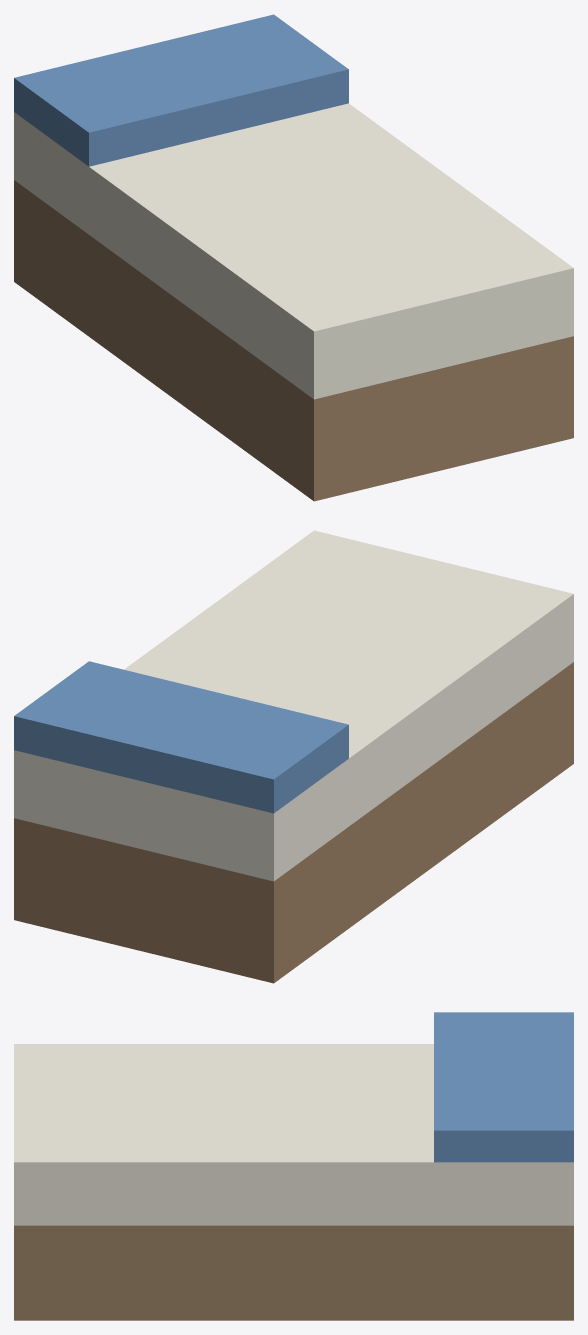
Rendered from kit_int_bed.glb.
The picture shows the model from 3 angles, top to bottom: view 1: azimuth 30°, elevation 25°; view 2: azimuth 150°, elevation 25°; view 3: azimuth 270°, elevation 25°; orthographic projection. The views are drawn at different scales.
Parts seen in each view (by area): view 1: kit_int_bed-col; view 2: kit_int_bed-col; view 3: kit_int_bed-col.
Boxes of the visible parts, x1,y1,x2,y2 form: kit_int_bed-col: (14,14,573,501); kit_int_bed-col: (14,530,573,983); kit_int_bed-col: (14,1012,573,1320).
Size of the model in its own units: 1 by 0.75 by 2.
